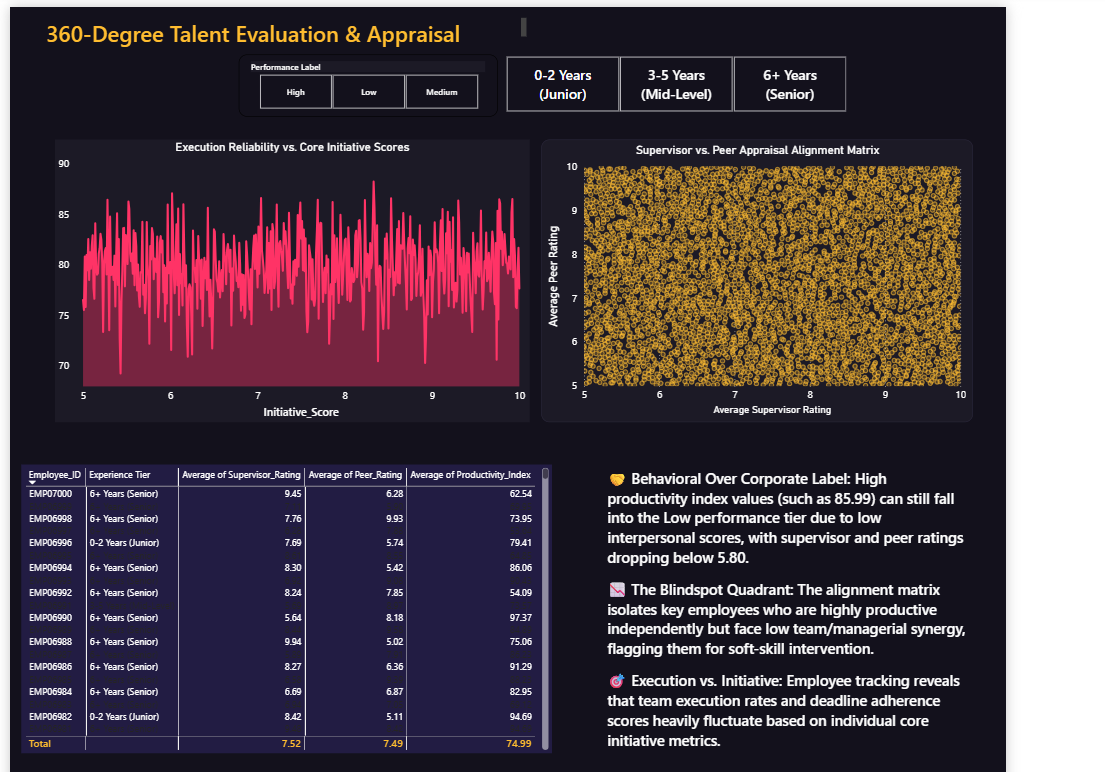

Layout of this report page (visuals, bound fields, positions):
{"tool":"powerbi","page":{"name":"Talent Appraisal","canvas":[1450,1138],"ordinal":1},"visuals":[{"type":"slicer","fields":{"Values":["employee_performance_dataset.Experience Tier"]},"box":[696.9,64.1,543.8,95.3],"z":0},{"type":"slicer","fields":{"Values":["employee_performance_dataset.Performance_Label"]},"box":[332.8,68.8,376.6,90.6],"z":1000},{"type":"scatterChart","title":"Supervisor vs. Peer Appraisal Alignment Matrix","fields":{"Category":["employee_performance_dataset.Employee_ID"],"X":["Avg(employee_performance_dataset.Supervisor_Rating)"],"Y":["Avg(employee_performance_dataset.Peer_Rating)"]},"box":[771.9,192.2,628.1,410.9],"z":2000},{"type":"areaChart","title":"Execution Reliability vs. Core Initiative Scores","fields":{"Category":["employee_performance_dataset.Initiative_Score"],"Y":["Avg(employee_performance_dataset.Deadline_Adherence)"]},"box":[65.6,192.2,690.6,410.9],"z":3000},{"type":"tableEx","fields":{"Values":["employee_performance_dataset.Employee_ID","employee_performance_dataset.Experience Tier","Avg(employee_performance_dataset.Supervisor_Rating)","Avg(employee_performance_dataset.Peer_Rating)","Avg(employee_performance_dataset.Productivity_Index)"]},"box":[15.6,665.6,771.9,420.3],"z":4000},{"type":"textbox","box":[46.9,10.9,709.4,57.8],"z":5000},{"type":"textbox","box":[864.1,665.6,535.9,440.6],"z":6000}]}

Visuals, with their boxes on the page's 1450x1138 design canvas (x1, y1, x2, y2). These are canvas units, not pixel positions in the 1105x772 screenshot, which may show the page scaled, cropped or inside an application window:
slicer - employee_performance_dataset.Experience Tier: box(697, 64, 1241, 159)
slicer - employee_performance_dataset.Performance_Label: box(333, 69, 709, 159)
"Supervisor vs. Peer Appraisal Alignment Matrix" scatterChart: box(772, 192, 1400, 603)
"Execution Reliability vs. Core Initiative Scores" areaChart: box(66, 192, 756, 603)
tableEx - employee_performance_dataset.Employee_ID x employee_performance_dataset.Experience Tier: box(16, 666, 788, 1086)
textbox: box(47, 11, 756, 69)
textbox: box(864, 666, 1400, 1106)
